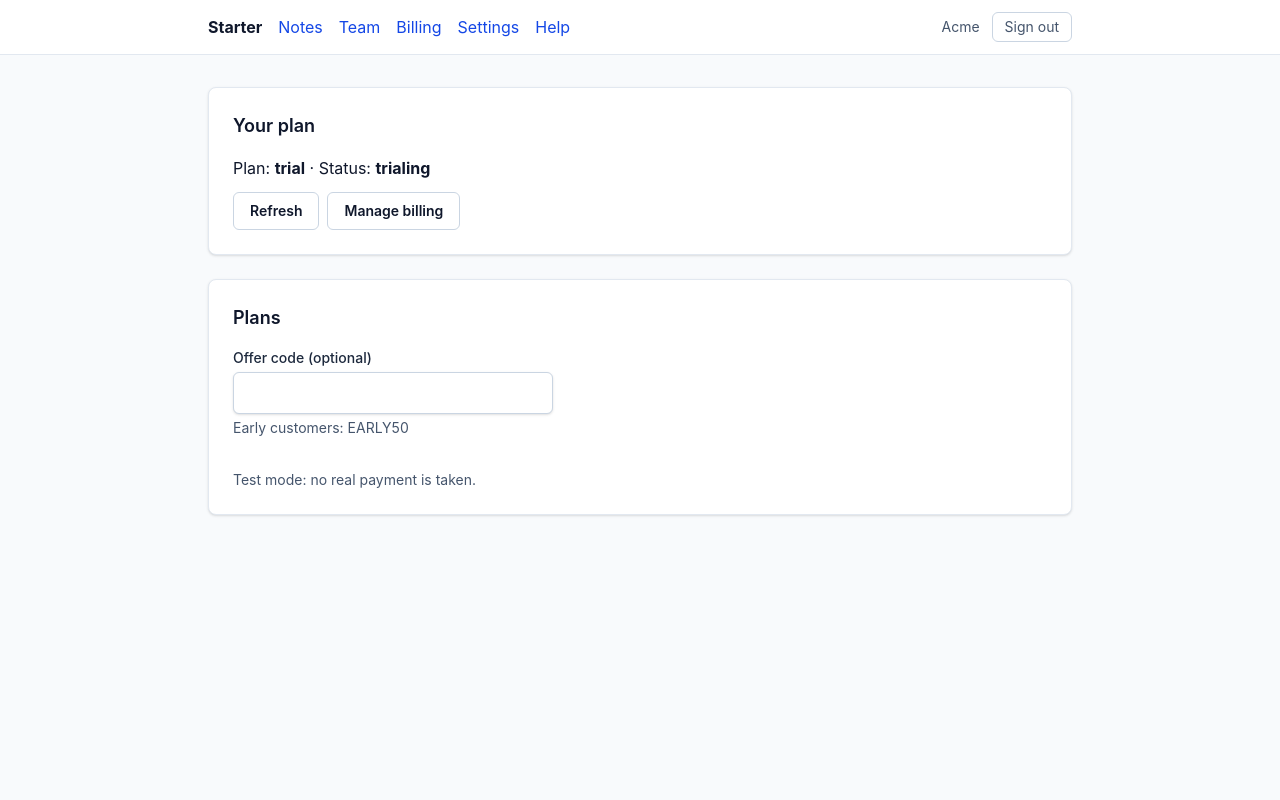
App when signed in › a failed sign-out keeps the session and says so
This screenshot has width=1280, height=800.
Click the button "Sign out": click(1032, 27) [992,12,1072,42]
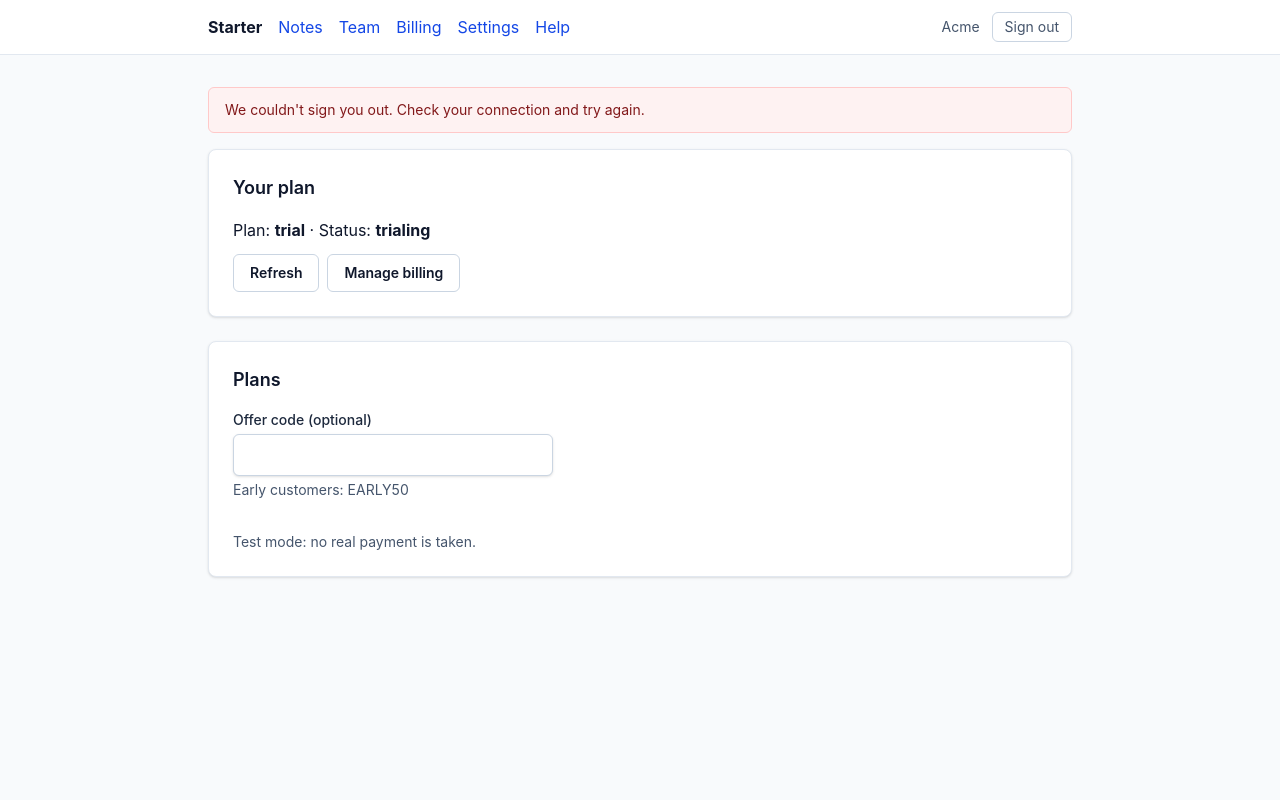
Check: the message shows "couldn't sign you out", box [225,101,645,118]
